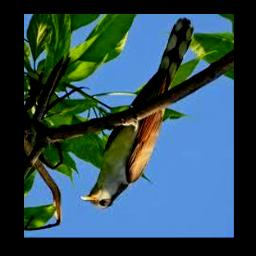Cuckoo: (80, 17, 194, 209)
